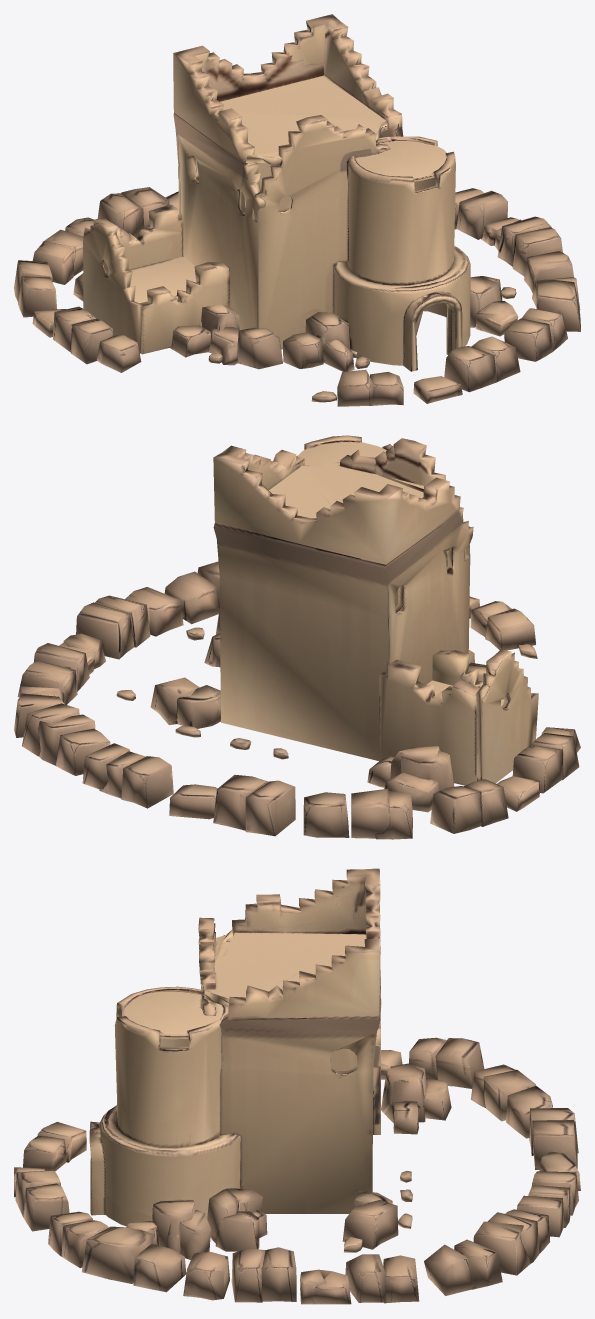
File: meshy-c6-d3.glb
3 views of the same model, one above another, from view 1: azimuth 30°, elevation 25°; view 2: azimuth 150°, elevation 25°; view 3: azimuth 270°, elevation 25° (orthographic). The views are drawn at different scales.
Bounding box in the file's own units: 1 × 0.5194 × 0.9989.
1 material, 1 textured.
